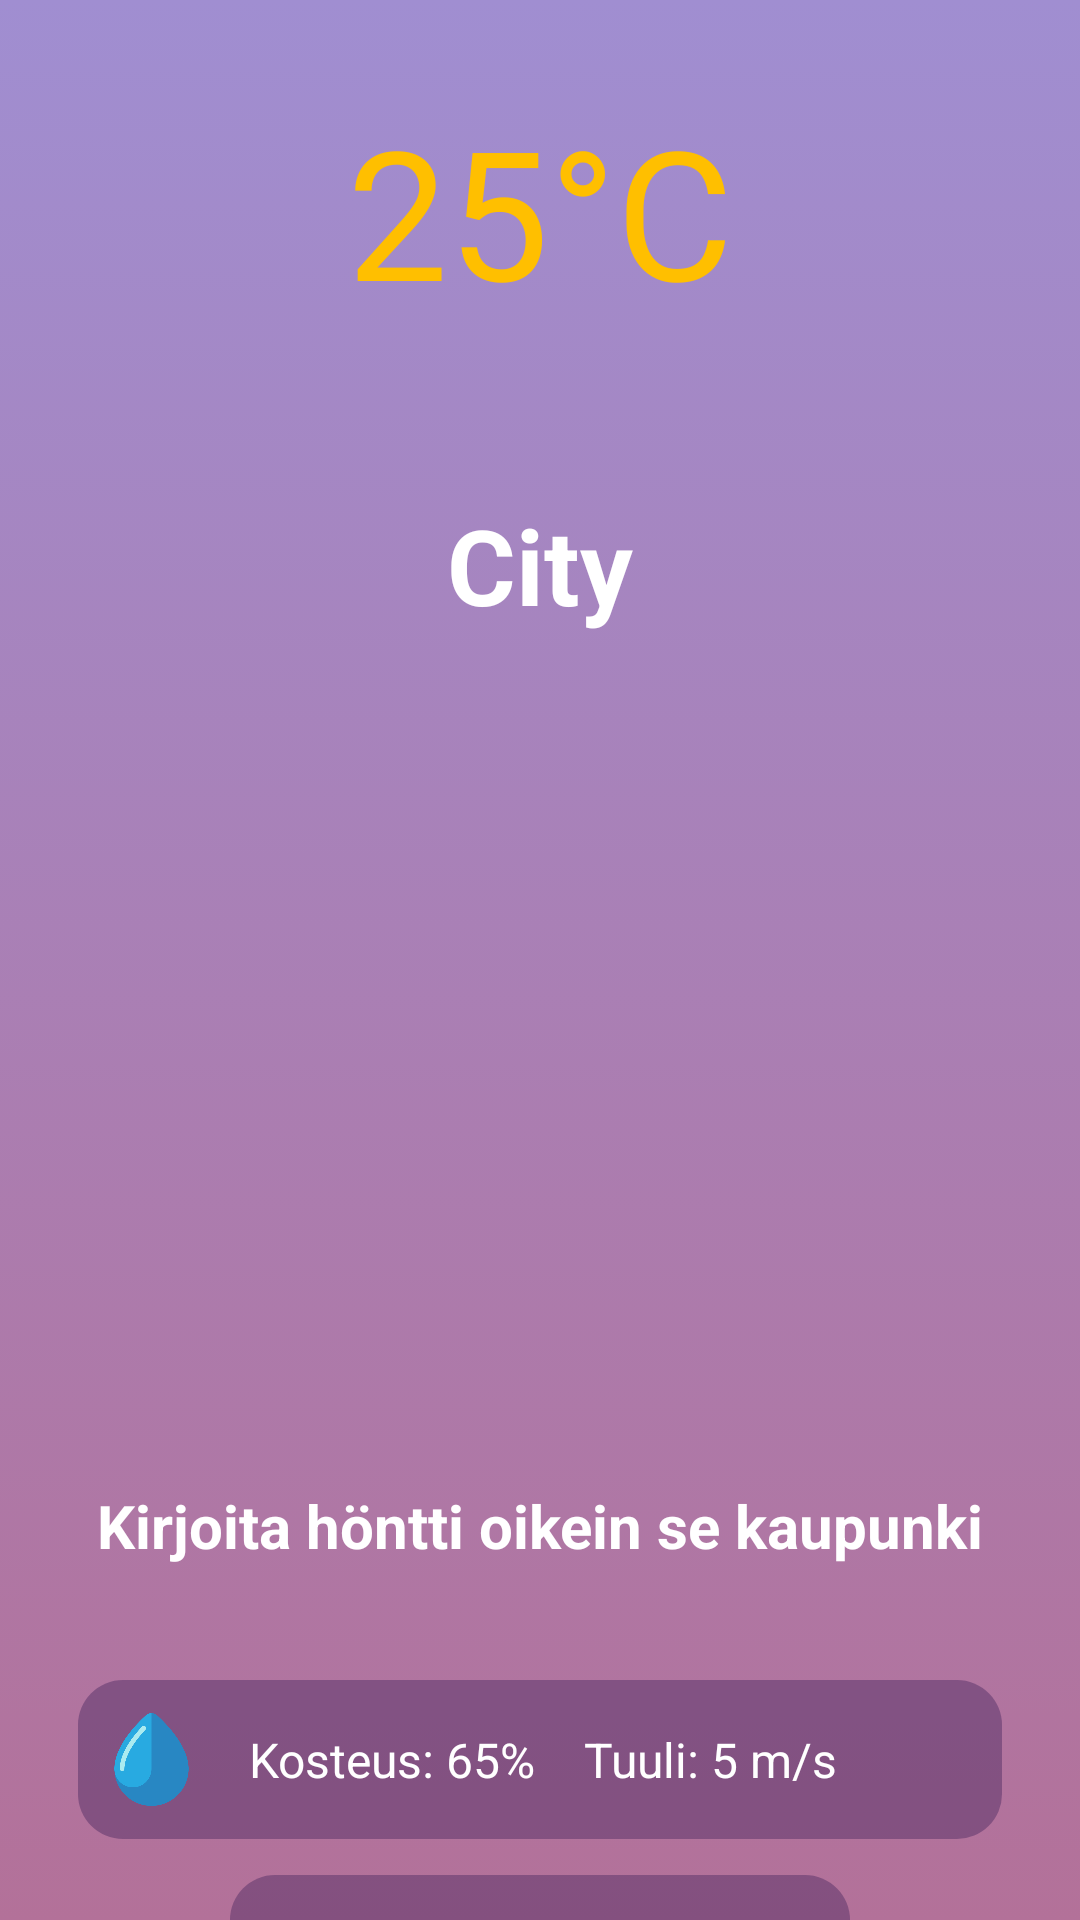

Icons on this 1080 x 1920 Android screen, each with its box as (x1, y1, x2, y2):
humidity: (114, 1713, 189, 1806)
